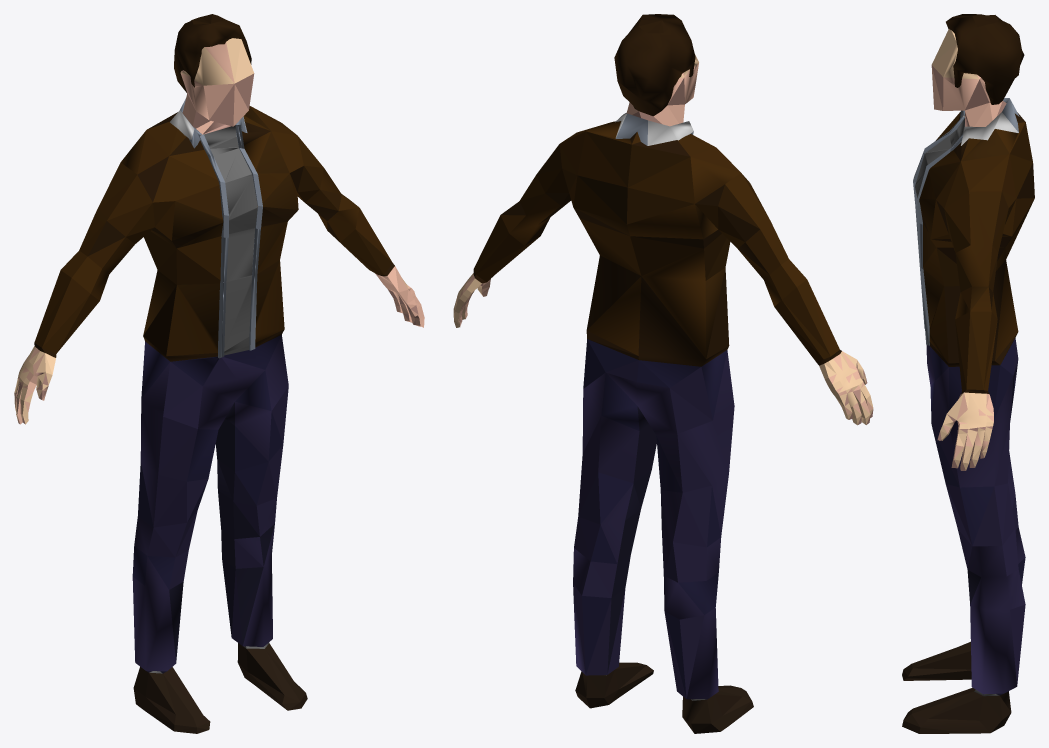
Rendered from low_poly_male_unrigged.glb.
3 renders of one model, left to right at view 1: azimuth 30°, elevation 25°; view 2: azimuth 150°, elevation 25°; view 3: azimuth 270°, elevation 25°, orthographic. The views are drawn at different scales.
Visible parts, largest first — view 1: Cube.001; view 2: Cube.001; view 3: Cube.001.
Boxes of the visible parts, <box> form: Cube.001: <box>14,14,424,733</box>; Cube.001: <box>453,14,873,733</box>; Cube.001: <box>902,14,1034,733</box>.
Bounding box in the file's own units: 1.27 × 2.02 × 0.3567.
